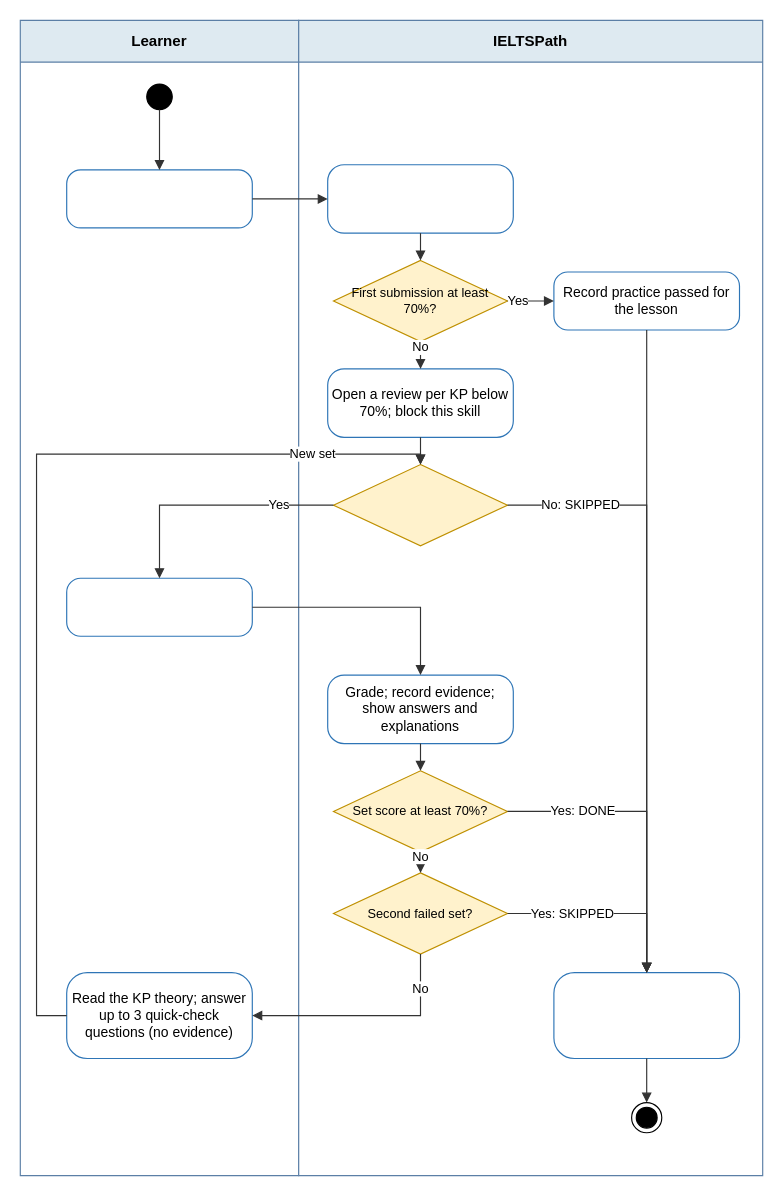
Image size: 783x1196. Some labels were removed from this diagram. Here are the shapes that lost their labels. From the top down, the box of each, then its label:
(66, 169, 252, 228): Take the lesson's practice set and submit
(327, 164, 513, 233): Grade; show answers and explanations; mark the set revealed
(332, 463, 507, 546): Unseen set left for the KP?
(66, 577, 252, 636): Take the review set with hints and submit
(553, 971, 740, 1058): Close the review; clear practice for the lesson; unblock the skill
